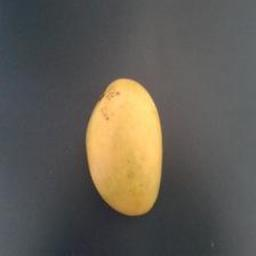Mango Fresh: (77, 62, 175, 225)
